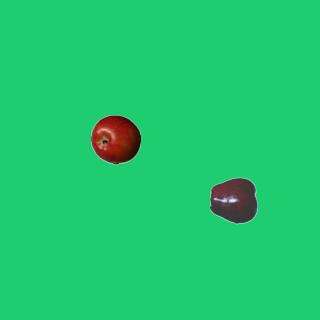Apple Braeburn: (90, 114, 140, 164)
Apple Red Delicious: (209, 175, 259, 225)
